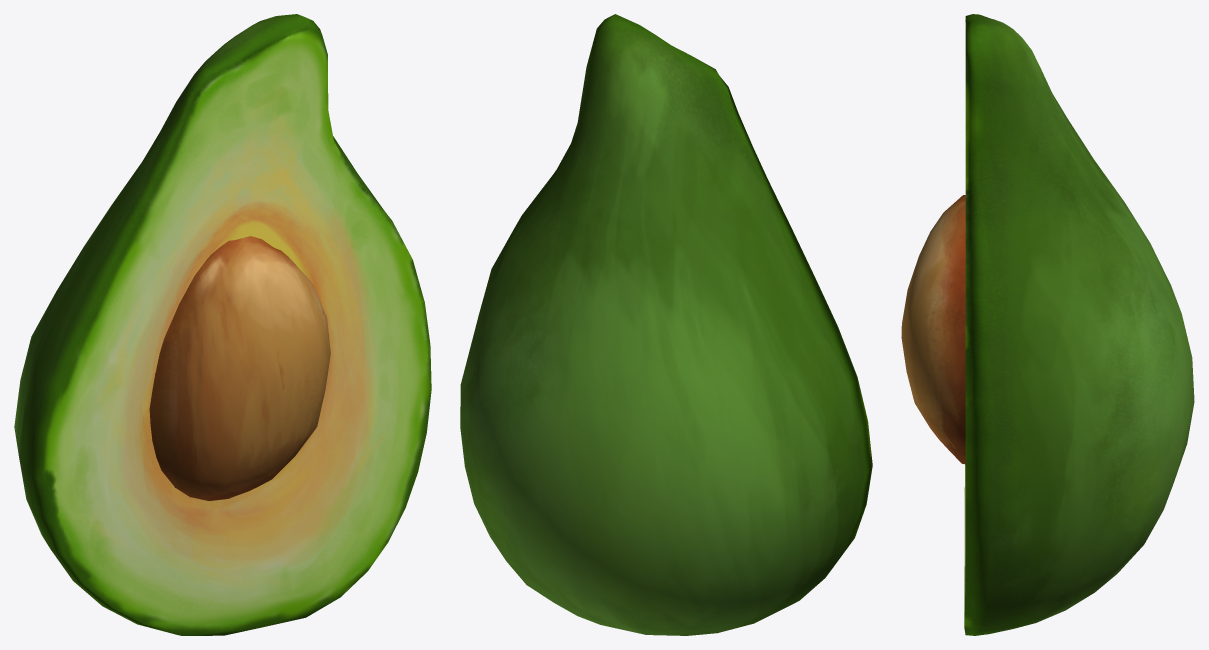
File: Avocado.dae
The picture shows the model from 3 angles, left to right: view 1: azimuth 30°, elevation 25°; view 2: azimuth 150°, elevation 25°; view 3: azimuth 270°, elevation 25°; orthographic projection. The views are drawn at different scales.
Parts seen in each view (by area): view 1: Avocado; view 2: Avocado; view 3: Avocado.
Part boxes in pixels (x1=…): Avocado: x1=14, y1=14, x2=431, y2=635; Avocado: x1=460, y1=14, x2=872, y2=635; Avocado: x1=901, y1=14, x2=1194, y2=635.
Bounding box in the file's own units: 4.26 × 6.29 × 2.76.
1 material, 1 textured.
